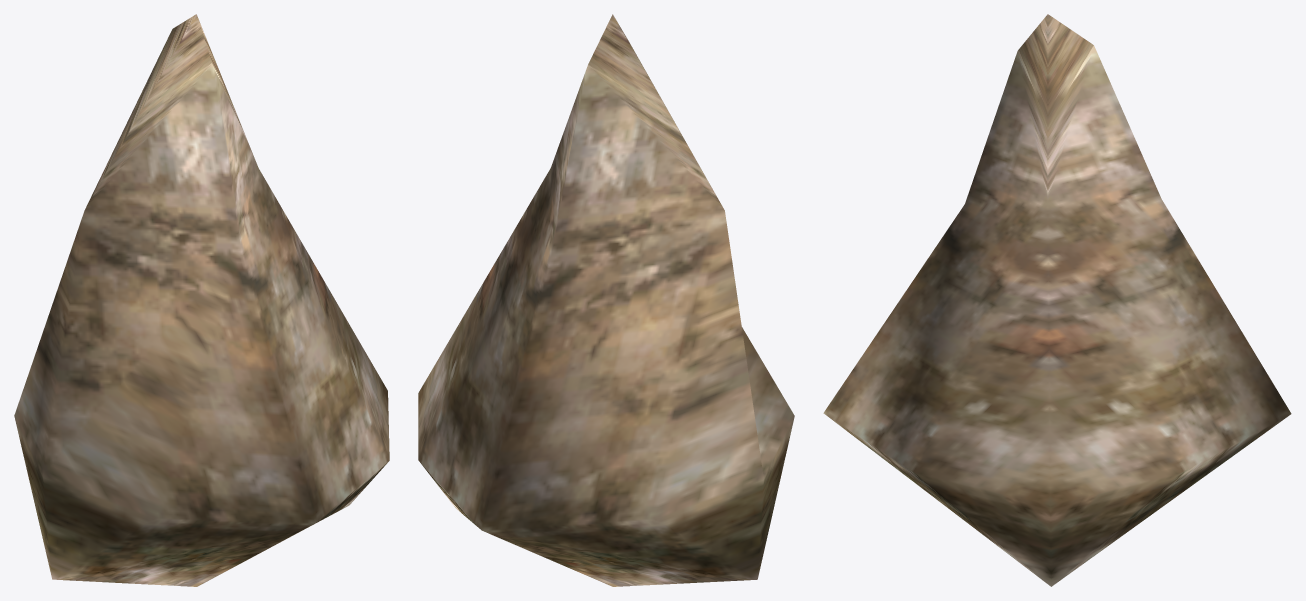
Rendered from thm_all_cave_stalagmite_c2_l2.fbx.
3 views of the same model, side by side, from view 1: azimuth 30°, elevation 25°; view 2: azimuth 150°, elevation 25°; view 3: azimuth 270°, elevation 25° (orthographic). The views are drawn at different scales.
Visible parts, largest first — view 1: mesh_node; view 2: mesh_node; view 3: mesh_node.
Boxes of the visible parts, bbox=[...] form: mesh_node: bbox=[14, 14, 389, 586]; mesh_node: bbox=[418, 14, 794, 586]; mesh_node: bbox=[823, 14, 1291, 586].
Size of the model in its own units: 3.08 by 4.89 by 3.83.
